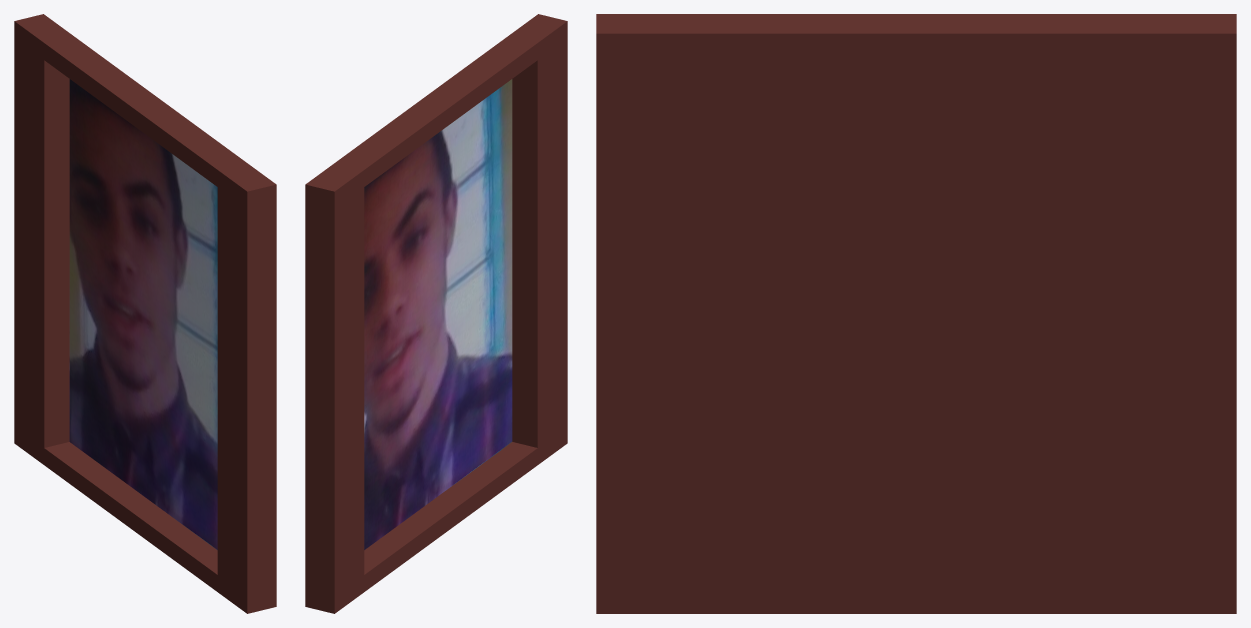
Rendered from Portrait6.fbx.
The picture shows the model from 3 angles, left to right: view 1: azimuth 30°, elevation 25°; view 2: azimuth 150°, elevation 25°; view 3: azimuth 270°, elevation 25°; orthographic projection. The views are drawn at different scales.
Parts seen in each view (by area): view 1: Cube.102; view 2: Cube.102; view 3: Cube.102.
Boxes of the visible parts, left/top/right/bottom form: Cube.102: left=14, top=14, right=276, bottom=613; Cube.102: left=305, top=14, right=567, bottom=613; Cube.102: left=596, top=14, right=1236, bottom=613.
Size of the model in its own units: 24.91 by 344 by 344.
